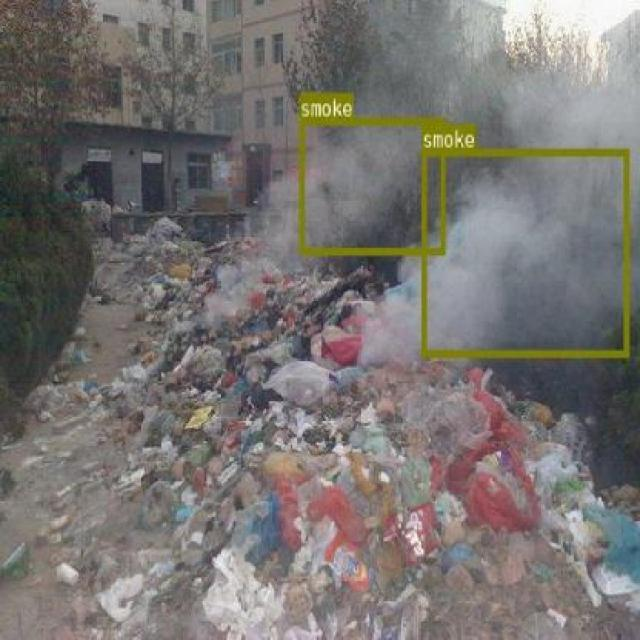Smoke: (420, 148, 628, 357), (386, 17, 616, 135), (298, 116, 444, 252), (368, 296, 421, 363)
